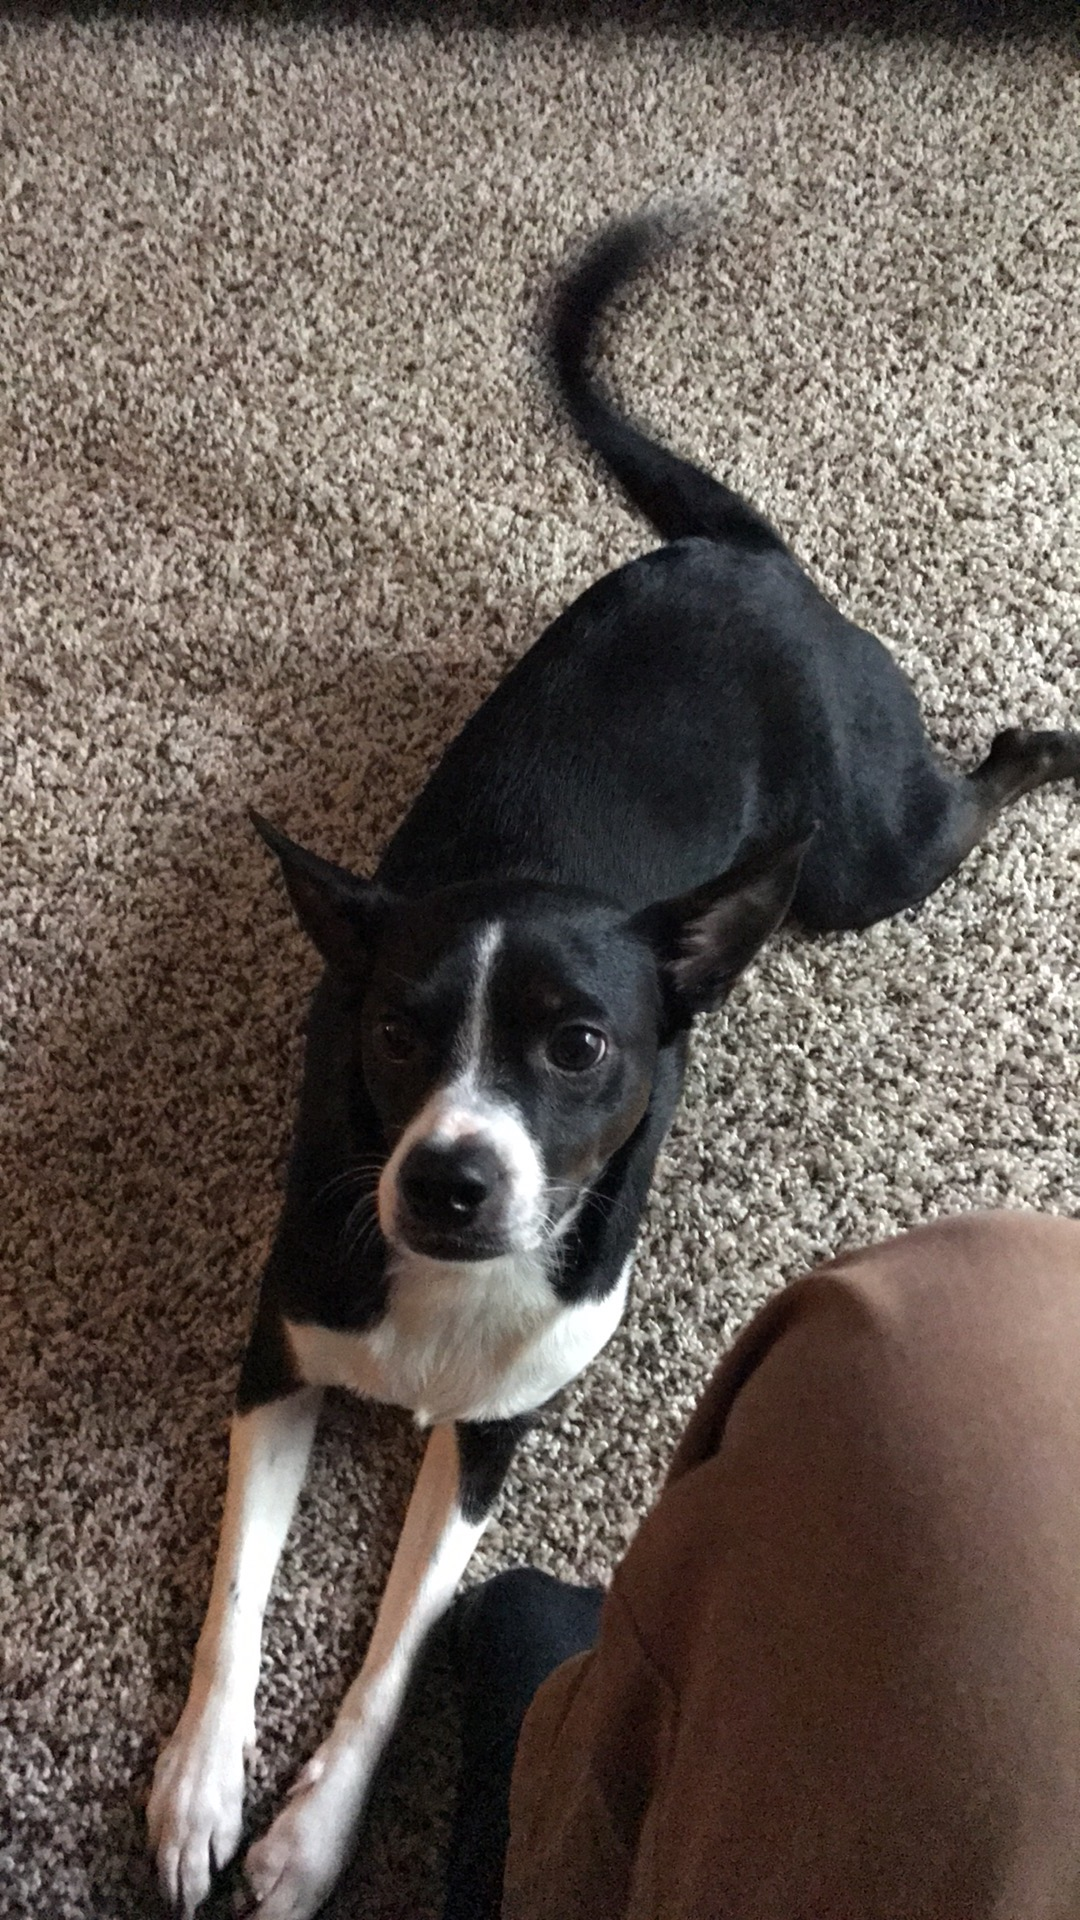Harley: (131, 190, 1063, 1913)
